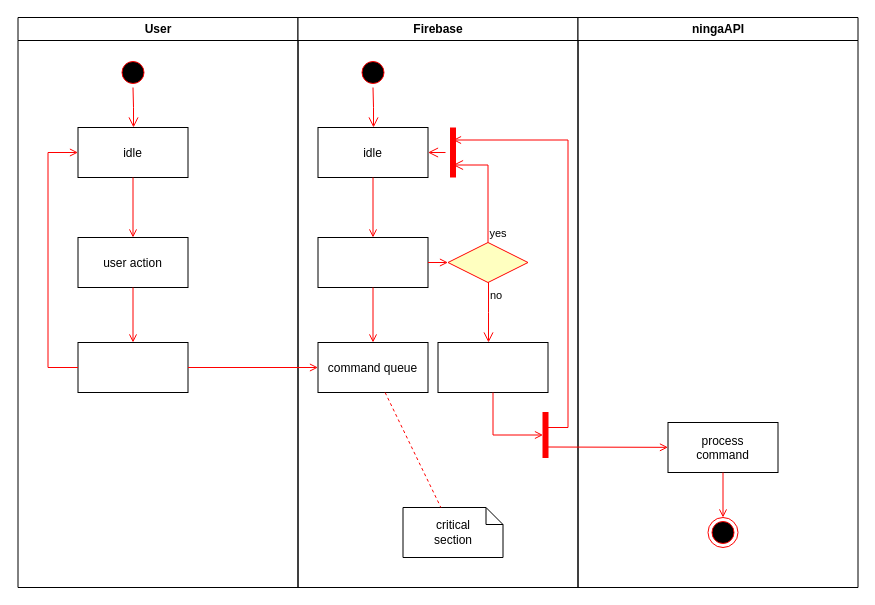
Some shapes in this 875 by 605 pixel diagram are drawn without their labels. The shapes that lost their labels are listed below. From the top down, each one's box as (x1, y1, x2, y2) in pixels, then its label:
(317, 236, 428, 288): check for new commands
(447, 242, 528, 282): queue empty
(77, 342, 188, 392): post command
(437, 342, 548, 392): dispatch command worker thread
